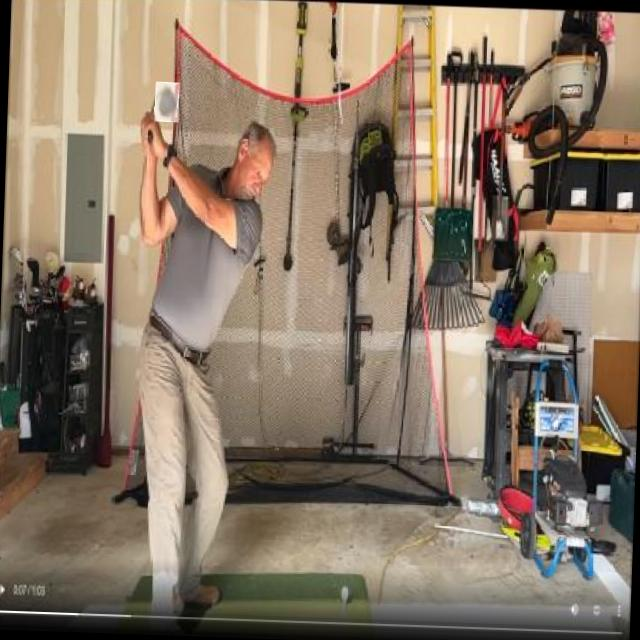club head: (154, 81, 179, 122)
